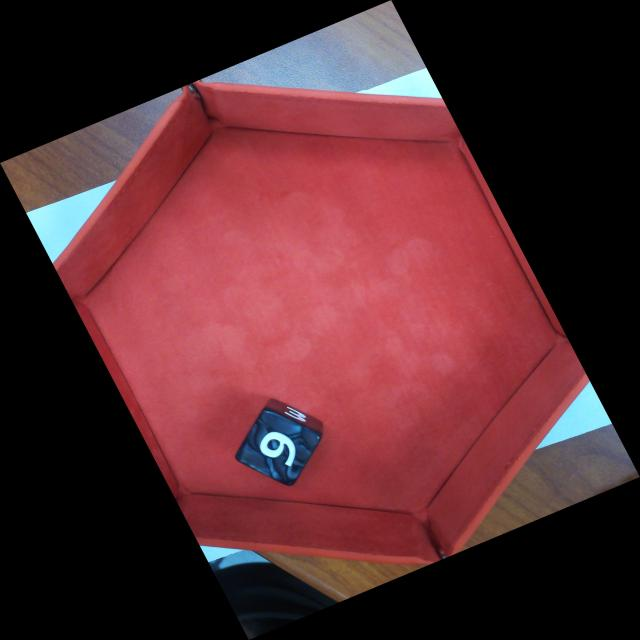dice: (240, 409, 325, 478)
